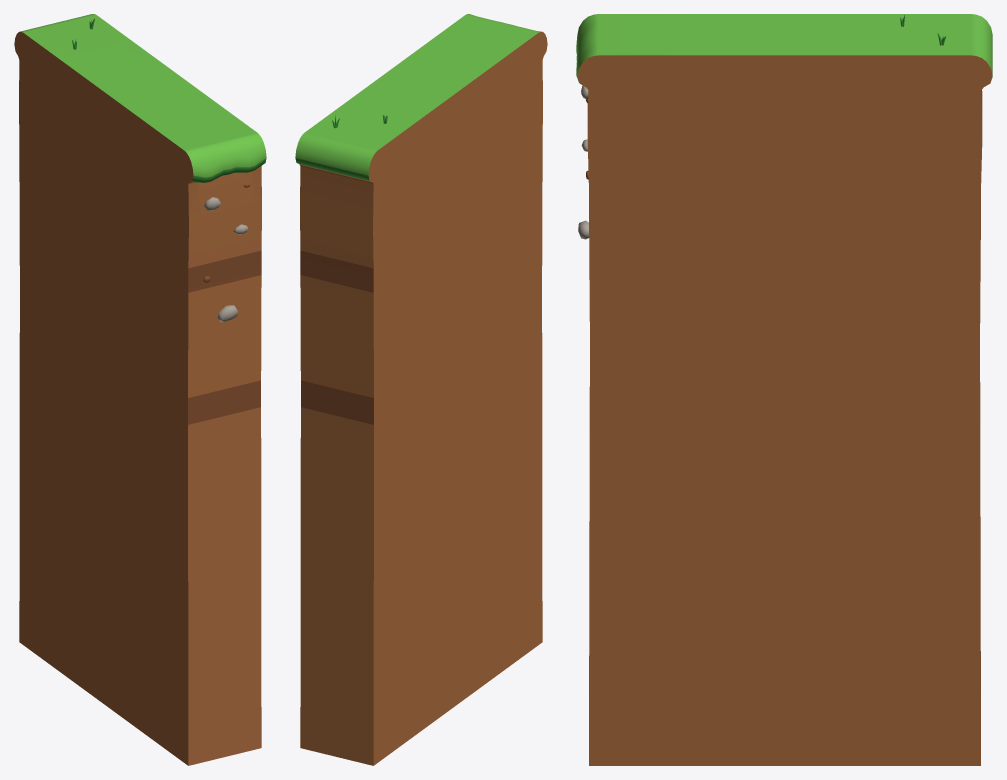
The model's file is ground_mid_a.glb.
3 renders of one model, left to right at view 1: azimuth 30°, elevation 25°; view 2: azimuth 150°, elevation 25°; view 3: azimuth 270°, elevation 25°, orthographic. The views are drawn at different scales.
Parts seen in each view (by area): view 1: ground_mid_a; view 2: ground_mid_a; view 3: ground_mid_a.
Boxes of the visible parts, box(x1,y1,x2,y2) form: ground_mid_a: box(14, 14, 266, 765); ground_mid_a: box(295, 14, 547, 765); ground_mid_a: box(576, 14, 992, 765).
Size of the model in its own units: 1 by 8.15 by 4.25.
